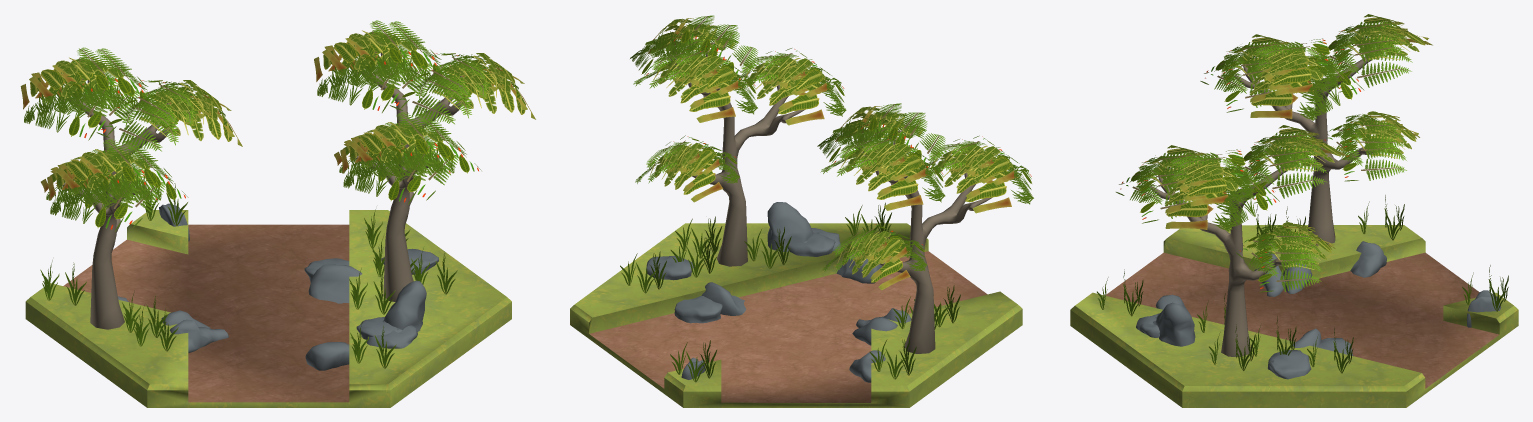
Rendered from HexTile7.fbx.
3 views of the same model, side by side, from view 1: azimuth 30°, elevation 25°; view 2: azimuth 150°, elevation 25°; view 3: azimuth 270°, elevation 25° (orthographic). The views are drawn at different scales.
Visible parts, largest first — view 1: Terrain_01.016, Tree7.001, Tree7, rock2.003, grass3.012, rock1; view 2: Terrain_01.016, Tree7, Tree7.001, rock2.003, grass3.012; view 3: Terrain_01.016, Tree7, Tree7.001, rock2.003, grass3.012, rock2.002, rock1.
Boxes of the visible parts, box(x1,y1,x2,y2) form: Terrain_01.016: box(25, 210, 511, 407); Tree7.001: box(20, 47, 242, 329); Tree7: box(314, 20, 535, 301); rock2.003: box(117, 248, 438, 370); grass3.012: box(40, 183, 457, 368); rock1: box(169, 319, 228, 353); Terrain_01.016: box(570, 223, 1022, 407); Tree7: box(630, 15, 846, 266); Tree7.001: box(817, 103, 1033, 353); rock2.003: box(646, 202, 897, 382); grass3.012: box(620, 202, 960, 382); Terrain_01.016: box(1070, 225, 1518, 407); Tree7: box(1116, 125, 1348, 356); Tree7.001: box(1200, 14, 1432, 245); rock2.003: box(1136, 241, 1386, 379); grass3.012: box(1097, 195, 1508, 373); rock2.002: box(1467, 290, 1500, 327); rock1: box(1254, 252, 1285, 296).
Size of the model in its own units: 2193 by 1287 by 1998.
